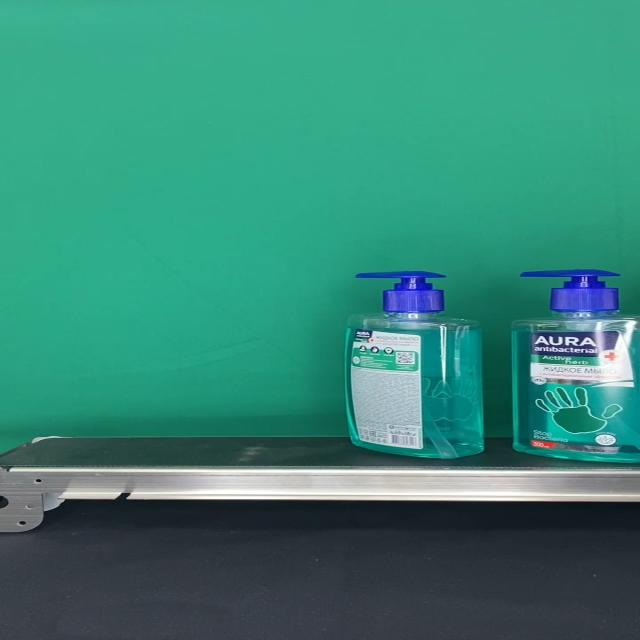Bottle: (344, 272, 484, 458), (510, 268, 640, 463)
Cap: (520, 269, 619, 310), (354, 272, 445, 314)
